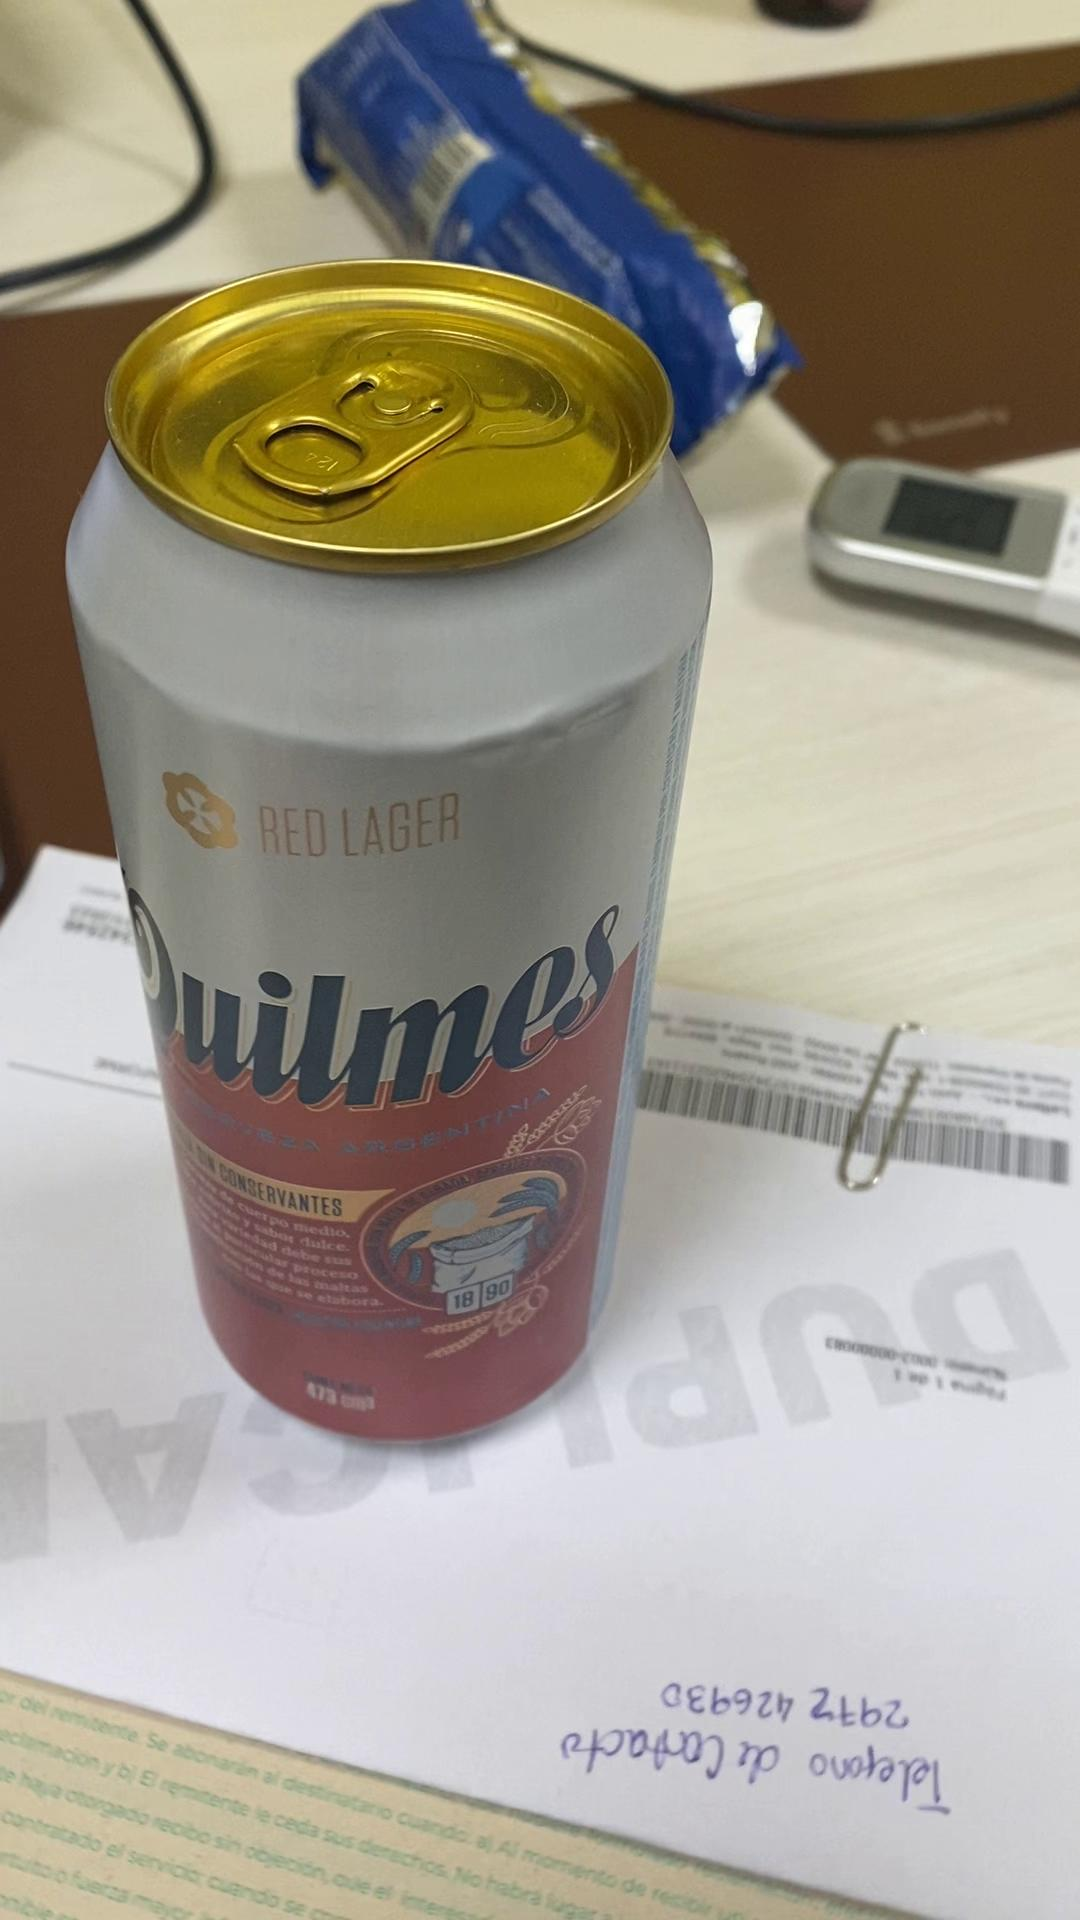metal: (67, 261, 709, 1441), (297, 0, 796, 450)
